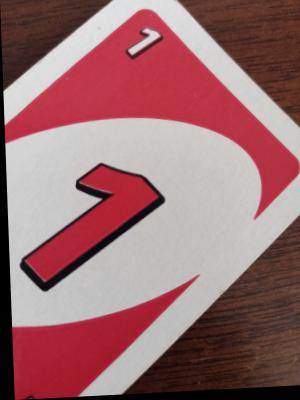num_1: (122, 18, 169, 66)
